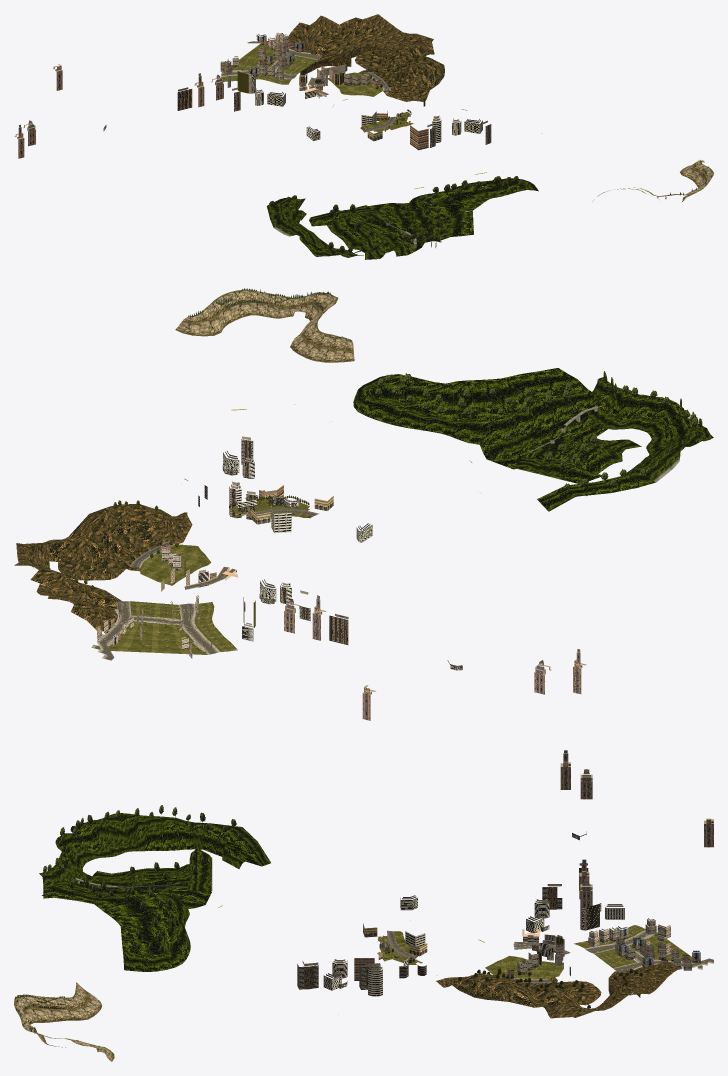
Rendered from track-B2_C5_V1_env.glb.
3 views of the same model, one above another, from view 1: azimuth 30°, elevation 25°; view 2: azimuth 150°, elevation 25°; view 3: azimuth 270°, elevation 25° (orthographic). The views are drawn at different scales.
Visible parts, largest first — view 1: B2_C5_V1_env; view 2: B2_C5_V1_env; view 3: B2_C5_V1_env.
Boxes of the visible parts, box(x1,y1,x2,y2) form: B2_C5_V1_env: box(14, 14, 713, 259); B2_C5_V1_env: box(14, 288, 713, 720); B2_C5_V1_env: box(14, 750, 713, 1061).
Size of the model in its own units: 3290 by 330 by 3360.
Materials: 8 (8 with a texture image).
